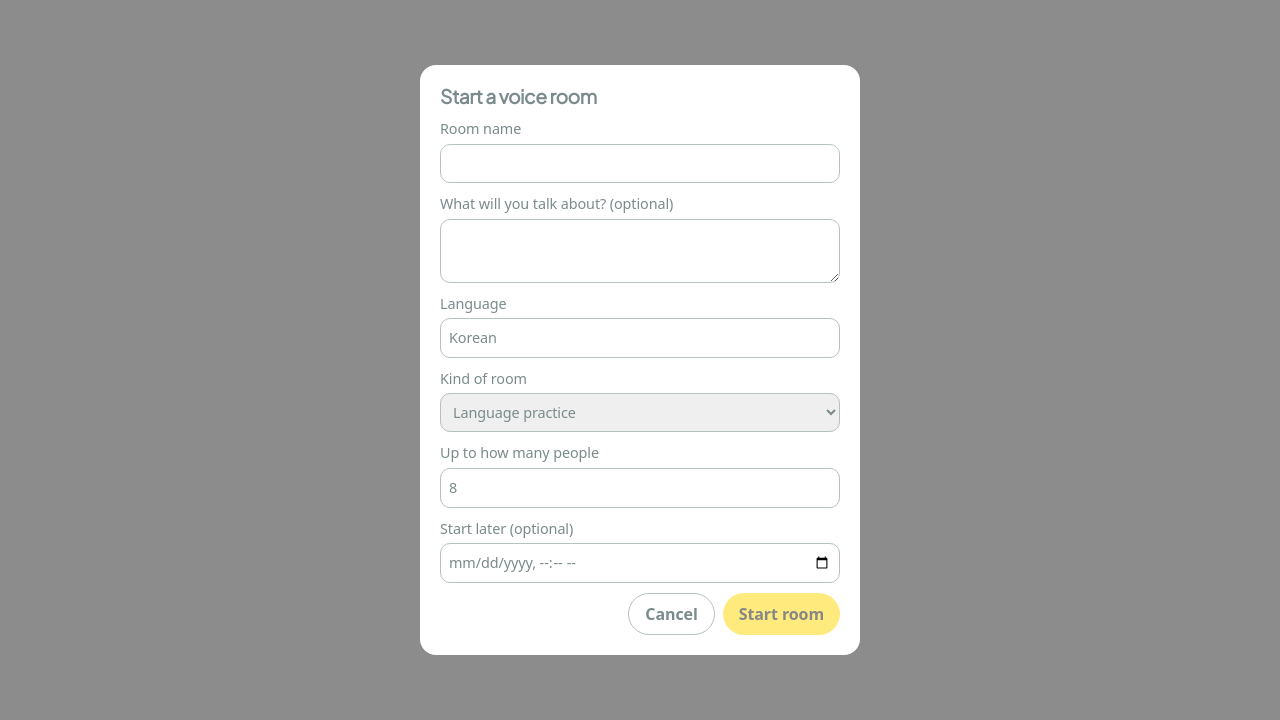
shows the VIP refusal inside the dialog
Type "Room" into the field with test id "create-voice-room-title" at [640, 164], box [440,144,840,183]
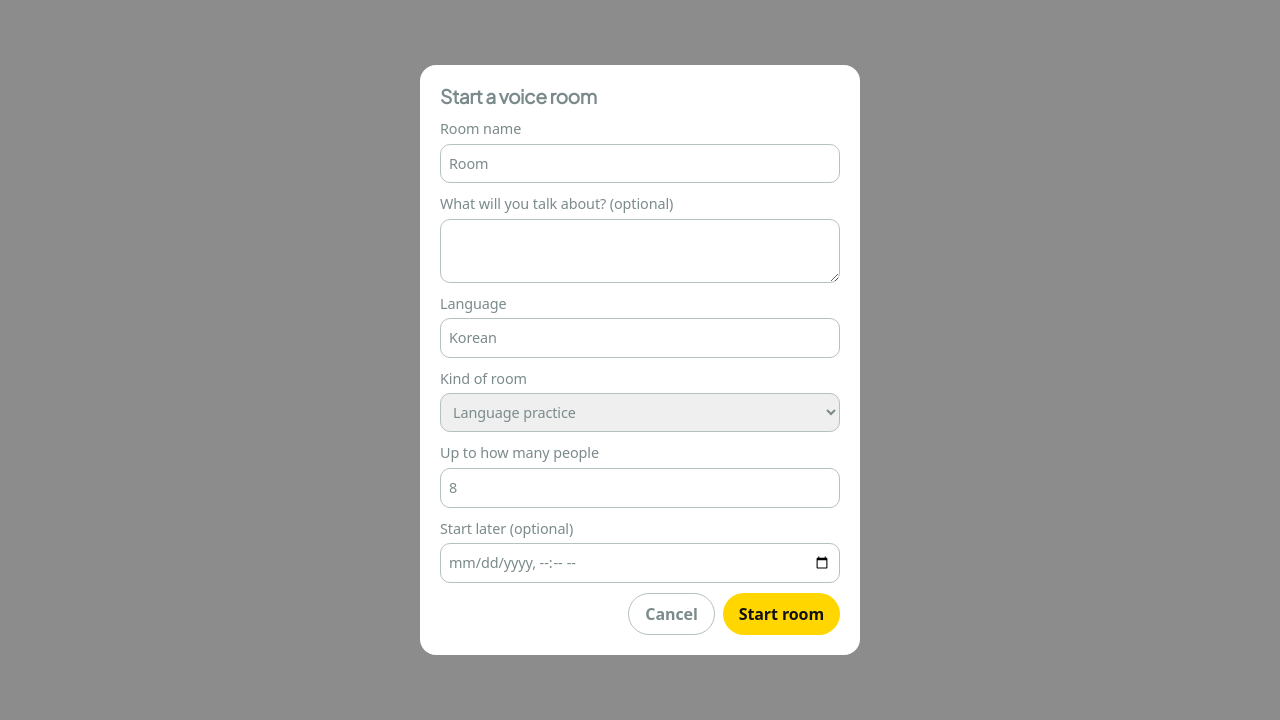
Click the button with test id "create-voice-room-submit" at [781, 614], box [723,593,840,635]
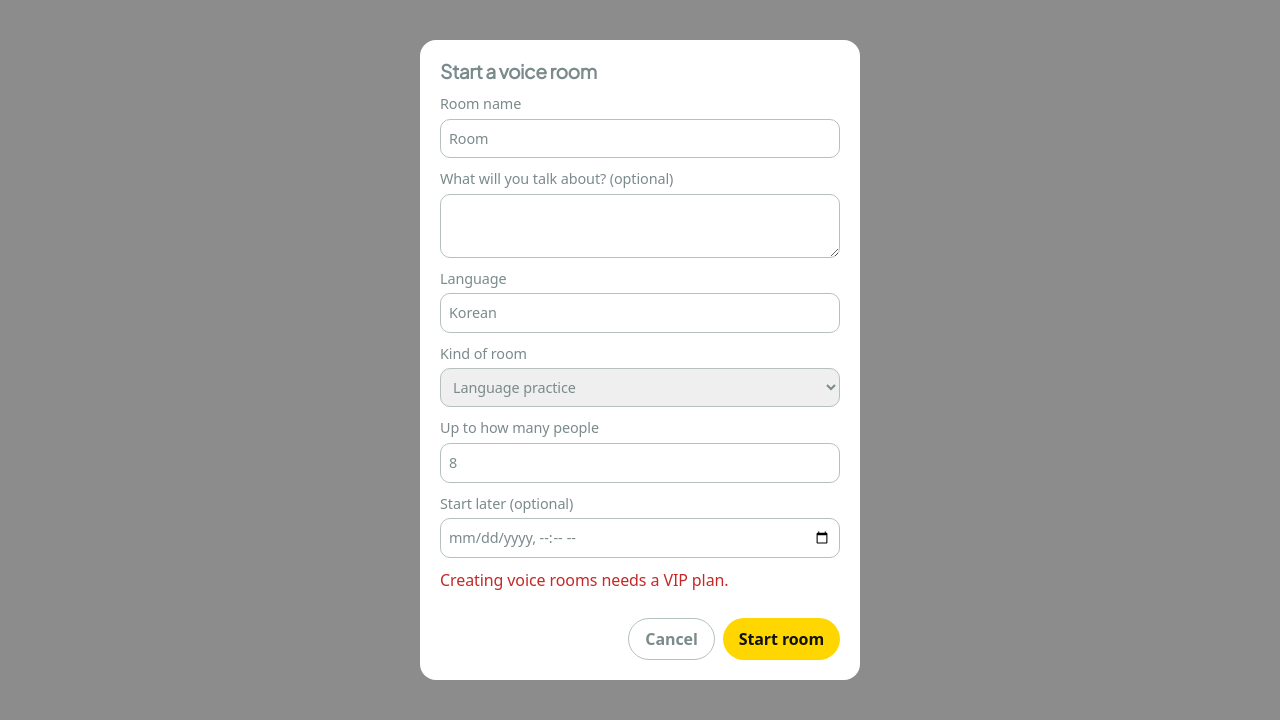
expect the message with test id "create-voice-room-error" shows "VIP": met, box [440,569,728,591]
